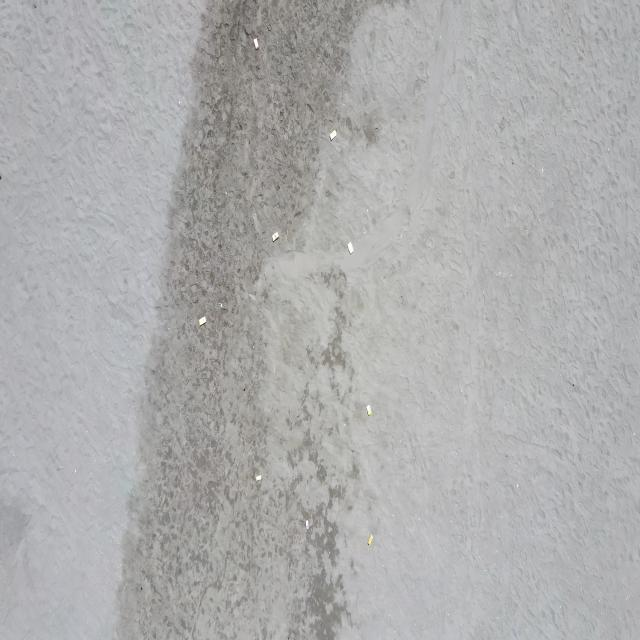Garbage: (329, 129, 335, 140), (366, 404, 372, 415), (253, 36, 258, 48), (367, 533, 372, 544), (347, 241, 352, 252), (304, 519, 310, 528), (272, 232, 278, 240), (198, 316, 204, 323), (255, 475, 260, 480)
